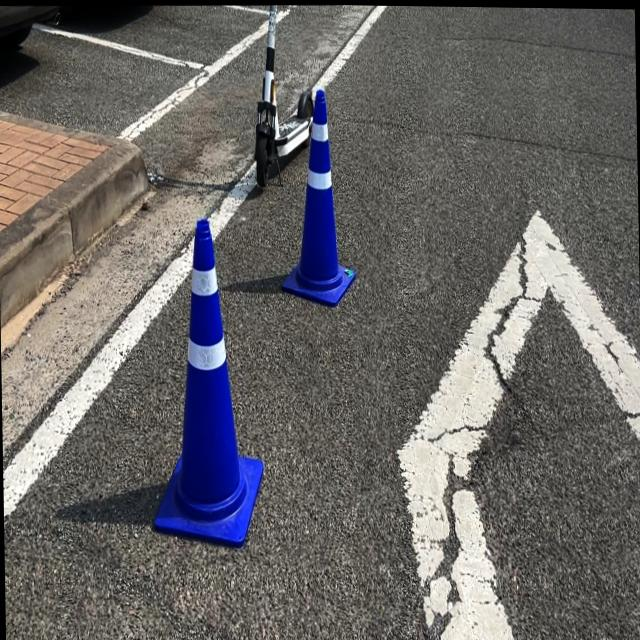b_rub: (153, 217, 263, 546), (282, 86, 355, 304)
